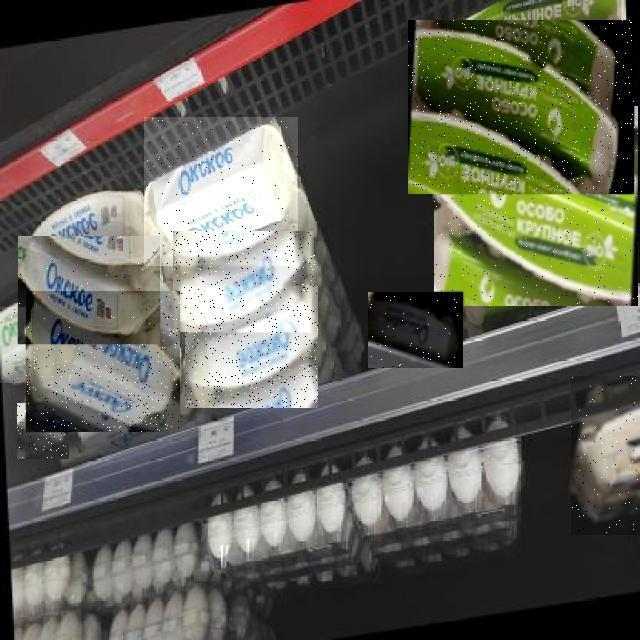Eggs: (434, 106, 638, 306), (408, 20, 634, 194), (144, 117, 298, 266), (26, 291, 180, 432), (357, 435, 518, 559), (20, 557, 246, 639), (185, 286, 318, 408), (18, 236, 160, 344), (174, 231, 316, 332), (571, 376, 640, 535), (228, 484, 348, 569), (368, 292, 463, 368), (17, 403, 69, 459), (0, 307, 32, 383)
